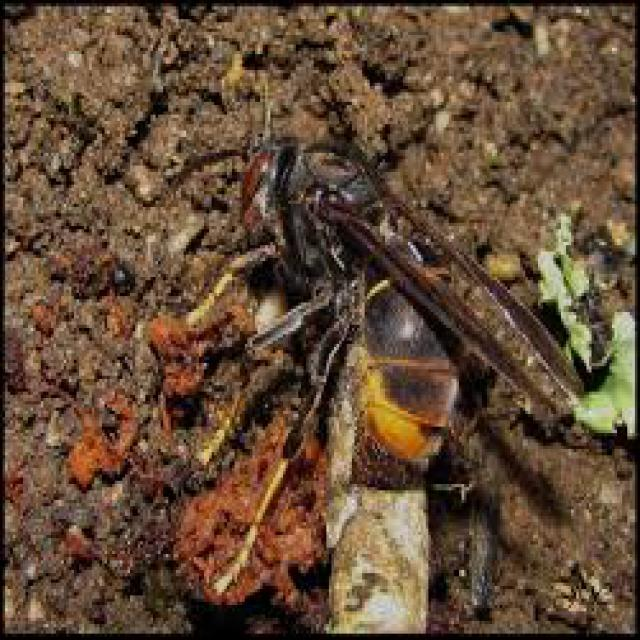Vespa Velutina: (162, 72, 592, 625)
